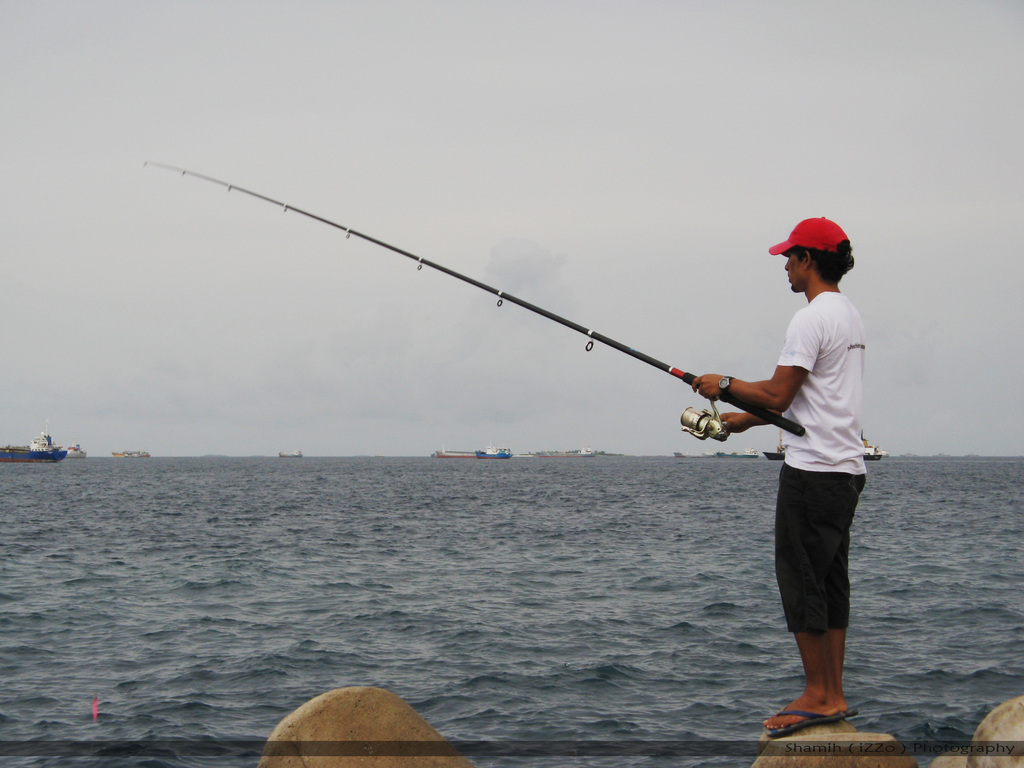Person: (691, 216, 866, 737)
